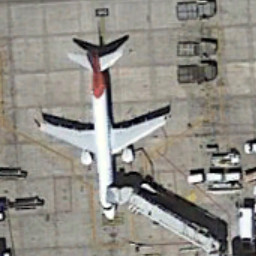Airplane: (24, 38, 178, 224)
